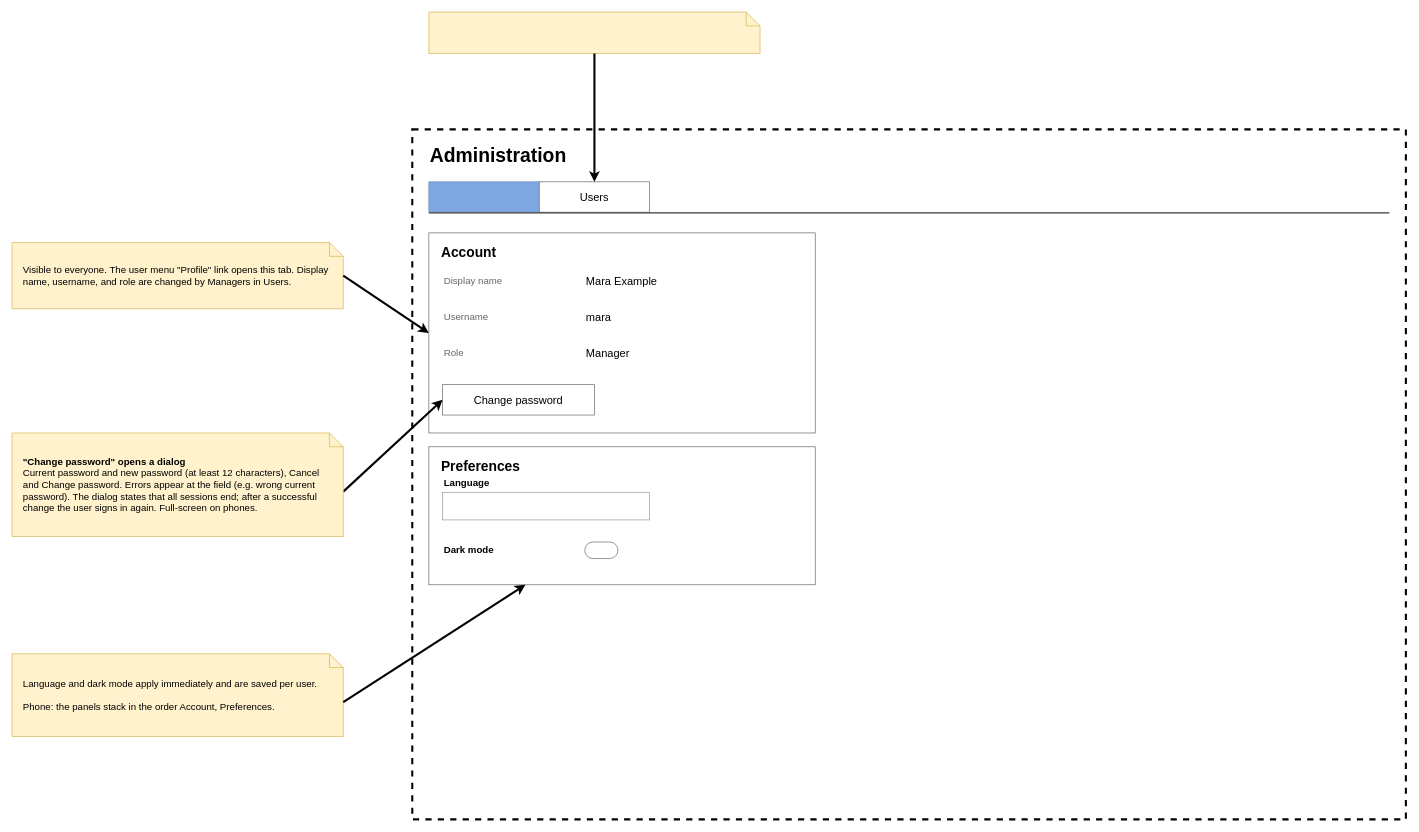
Some shapes in this 1419 by 832 pixel diagram are drawn without their labels. The shapes that lost their labels are listed below. From the top down, each one's centre as x and y in pixels, then its label:
At [594,32]: "Members see only the Profile tab.".
At [483,196]: "Profile".
At [546,506]: "German ▾".
